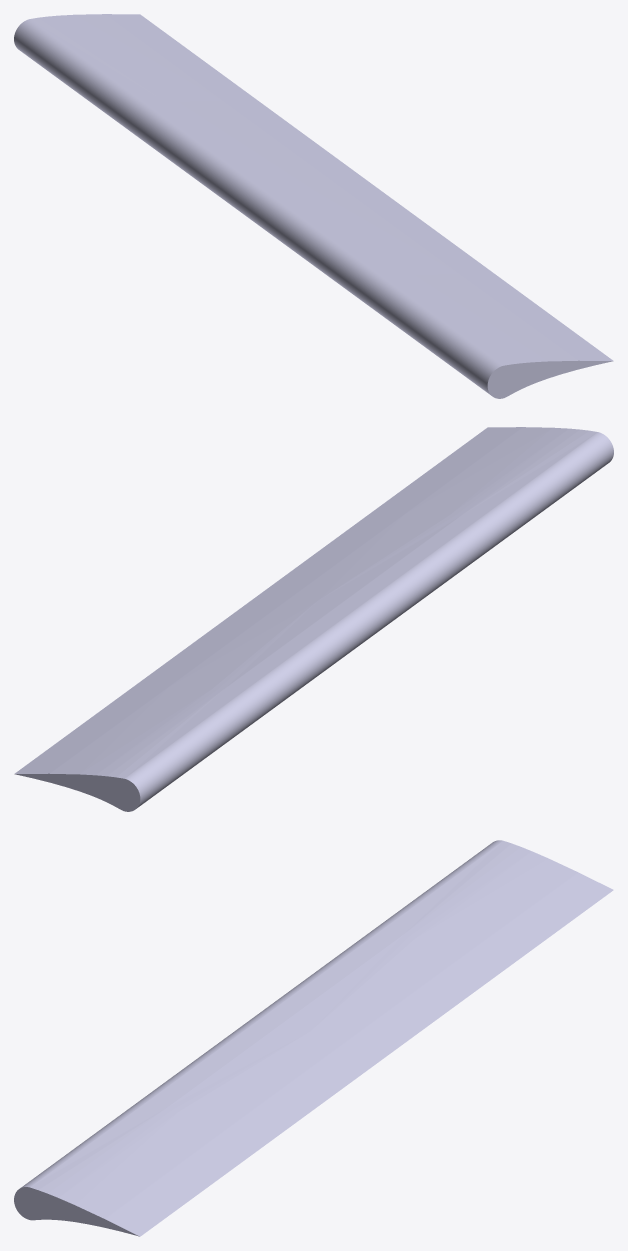
The model's file is airfoil.dae.
3 views of the same model, one above another, from view 1: azimuth 30°, elevation 25°; view 2: azimuth 150°, elevation 25°; view 3: azimuth 330°, elevation 25° (orthographic).
Visible parts, largest first — view 1: node0; view 2: node0; view 3: node0.
Part boxes in pixels (x1=…): node0: x1=14, y1=14, x2=613, y2=398; node0: x1=14, y1=427, x2=613, y2=811; node0: x1=14, y1=840, x2=613, y2=1236.
Bounding box in the file's own units: 0.154 × 1 × 0.038.
